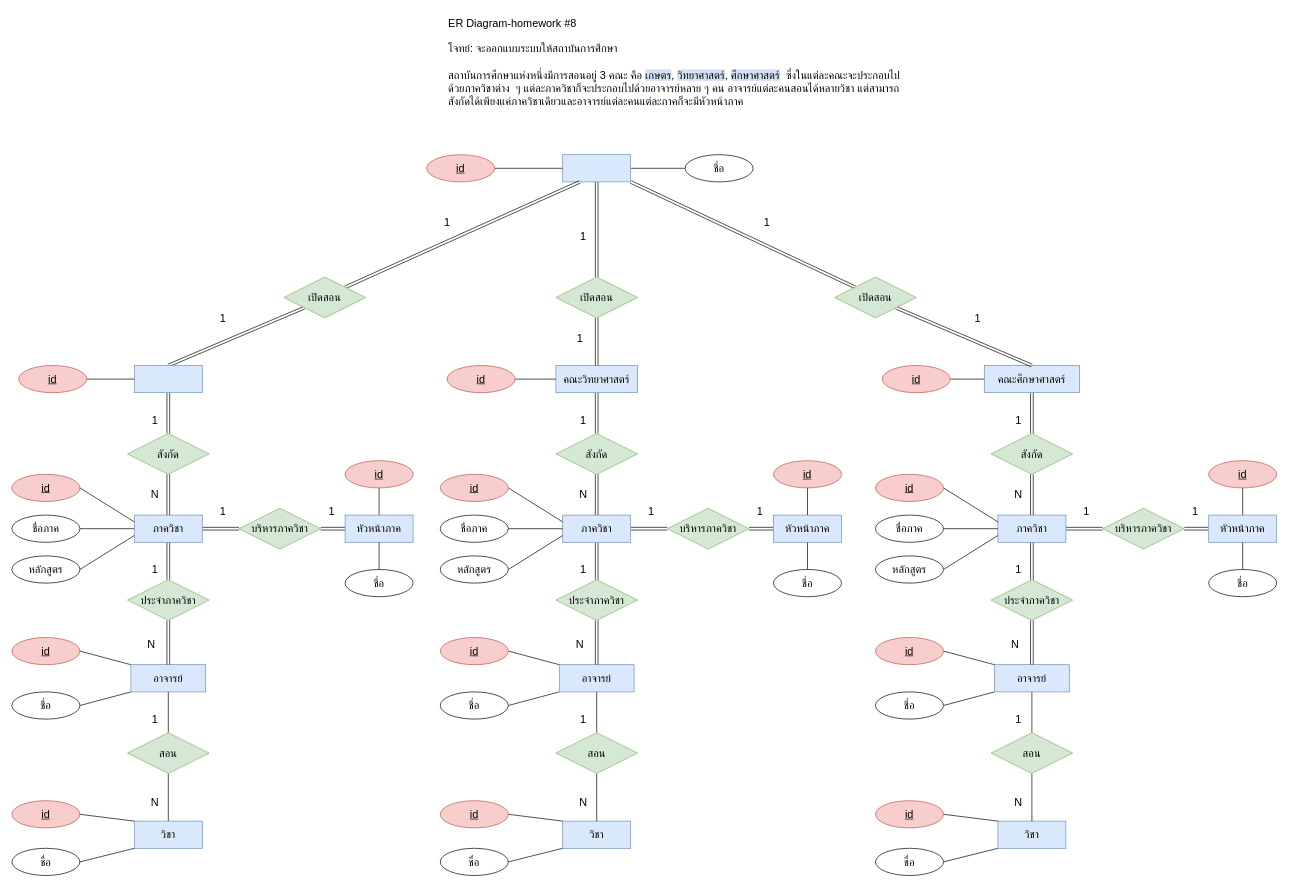
This 1289x887 diagram has some shape labels left out. Here are the shapes that lost their labels. From the top down, the centre of each, then its label:
At point 596,168: "สถาบัน".
At point 168,379: "คณะเกษตร".
